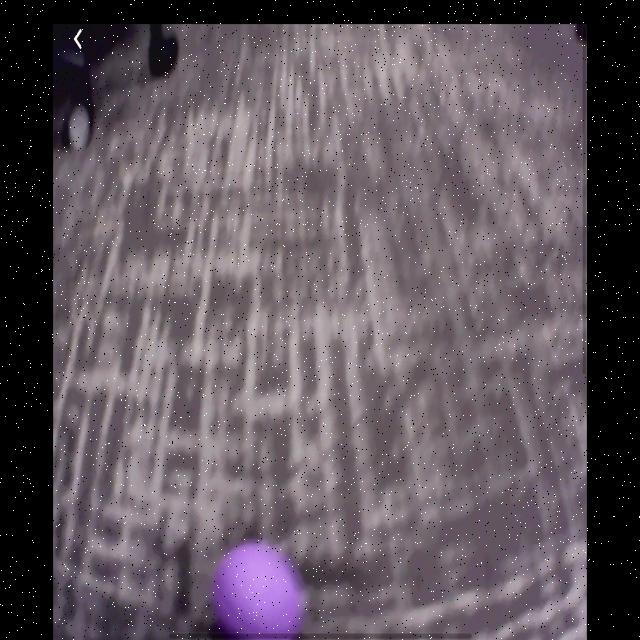ball: (210, 539, 308, 637)
